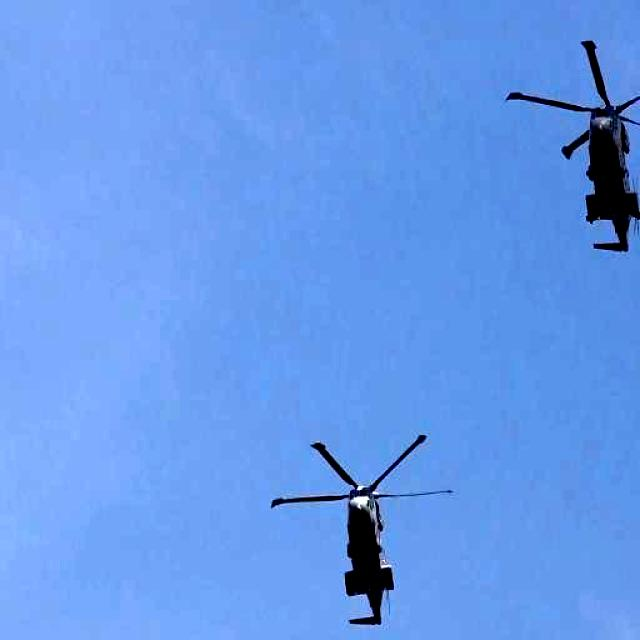drone: (272, 436, 434, 640), (508, 34, 640, 271)
